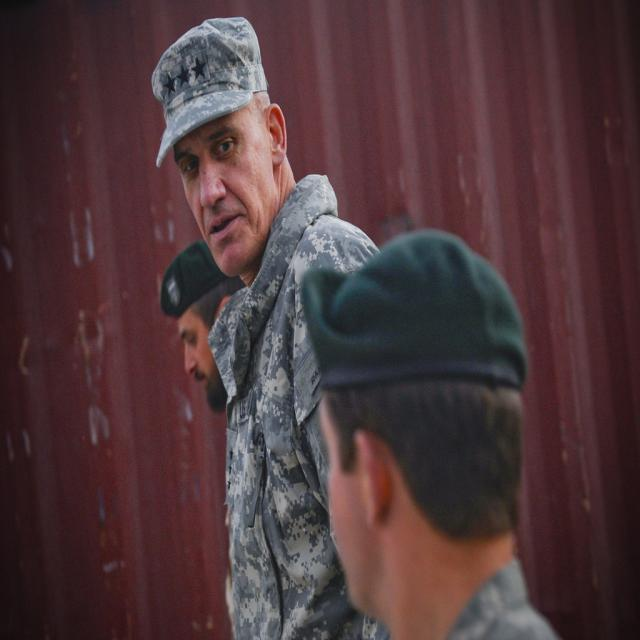Hat: (151, 13, 268, 168)
